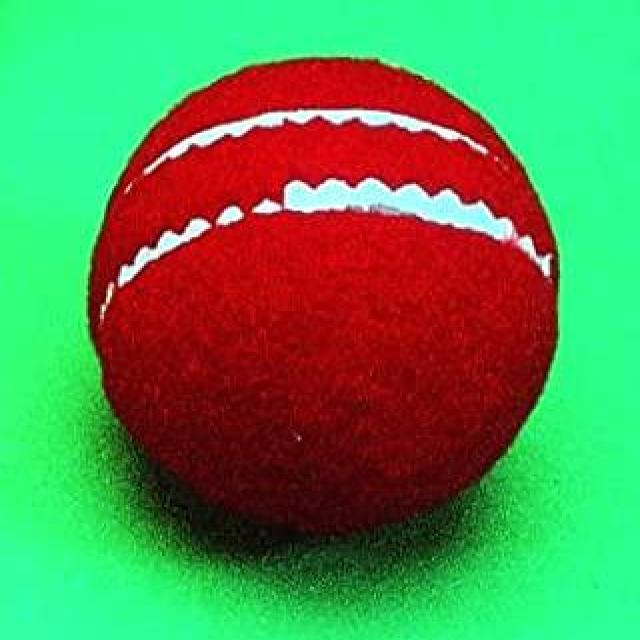ball: (83, 53, 572, 546)
